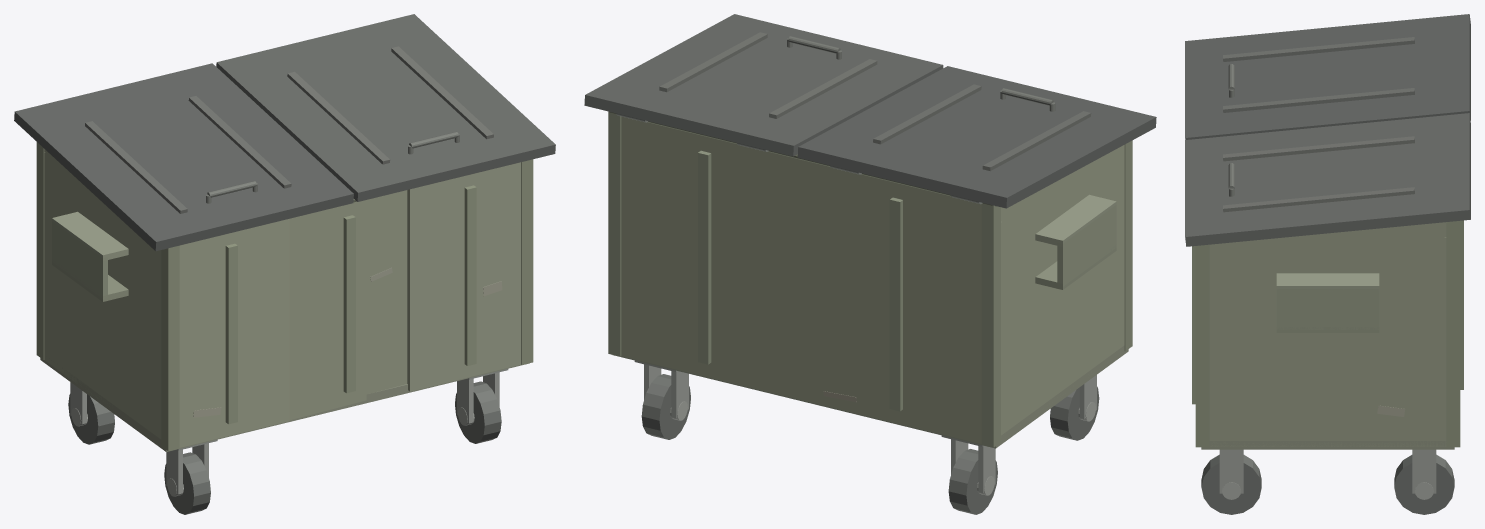
The picture shows the model from 3 angles, left to right: view 1: azimuth 30°, elevation 25°; view 2: azimuth 150°, elevation 25°; view 3: azimuth 270°, elevation 25°; orthographic projection. The views are drawn at different scales.
Parts seen in each view (by area): view 1: lid_left, lid_right, front_panel_dented_center, front_panel_right, front_panel_left, wall_left, corner_post_front_left, corner_post_front_right, front_rib_left, front_rib_right, lift_pocket_left_outer_web, front_rib_center (+13 smaller); view 2: wall_rear, lid_left, lid_right, wall_left, corner_post_rear_left, corner_post_rear_right, rear_rib_right, rear_rib_left, lift_pocket_left_outer_web, caster_rl_wheel, caster_rr_wheel, steel_bottom (+10 smaller); view 3: wall_right, lid_right, lid_left, lift_pocket_right_outer_web, right_sloped_upper_wall, corner_post_rear_right, corner_post_front_right, steel_bottom, caster_fr_wheel, caster_rr_wheel, lift_pocket_right_top, lid_rib_left_outer (+8 smaller).
Part boxes in pixels (<box>): lid_left: <box>14,63,353,251</box>; lid_right: <box>216,14,555,201</box>; front_panel_dented_center: <box>289,190,407,420</box>; front_panel_right: <box>407,162,520,391</box>; front_panel_left: <box>179,219,289,447</box>; wall_left: <box>44,152,161,439</box>; corner_post_front_left: <box>161,245,179,451</box>; corner_post_front_right: <box>521,159,533,364</box>; front_rib_left: <box>225,243,237,424</box>; front_rib_right: <box>464,185,476,365</box>; lift_pocket_left_outer_web: <box>52,221,107,298</box>; front_rib_center: <box>343,215,355,393</box>; wall_rear: <box>621,116,981,443</box>; lid_left: <box>797,66,1156,208</box>; lid_right: <box>584,14,943,156</box>; wall_left: <box>1001,145,1124,435</box>; corner_post_rear_left: <box>981,203,1000,447</box>; corner_post_rear_right: <box>608,111,621,356</box>; rear_rib_right: <box>698,150,711,364</box>; rear_rib_left: <box>889,197,902,411</box>; lift_pocket_left_outer_web: <box>1057,205,1116,286</box>; caster_rl_wheel: <box>948,449,997,514</box>; caster_rr_wheel: <box>641,374,690,439</box>; steel_bottom: <box>613,345,1128,448</box>; wall_right: <box>1209,237,1446,446</box>; lid_right: <box>1185,113,1470,246</box>; lid_left: <box>1185,14,1470,139</box>; lift_pocket_right_outer_web: <box>1276,289,1379,329</box>; right_sloped_upper_wall: <box>1209,222,1446,259</box>; corner_post_rear_right: <box>1446,221,1460,447</box>; corner_post_front_right: <box>1195,244,1209,447</box>; steel_bottom: <box>1201,441,1454,449</box>; caster_fr_wheel: <box>1201,454,1261,514</box>; caster_rr_wheel: <box>1394,454,1454,514</box>; lift_pocket_right_top: <box>1276,273,1379,290</box>; lid_rib_left_outer: <box>1223,37,1414,61</box>.
Size of the model in its own units: 1.6 by 1.2 by 0.9486.
